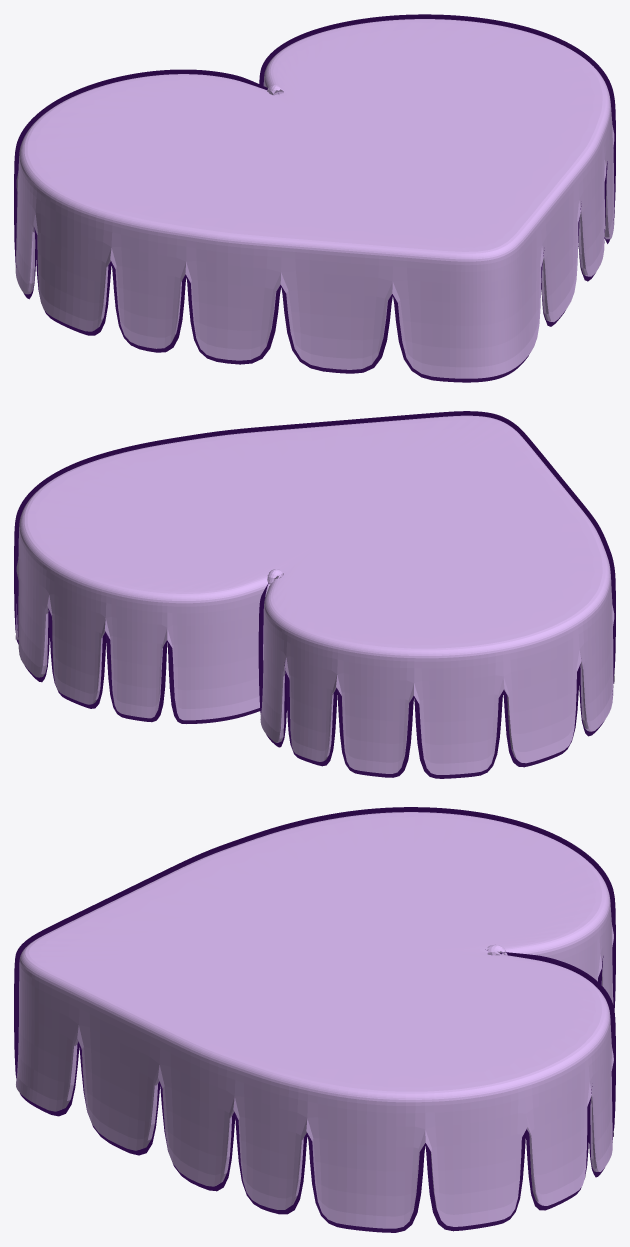
Rendered from coracao lilas.glb.
The picture shows the model from 3 angles, top to bottom: view 1: azimuth 30°, elevation 25°; view 2: azimuth 150°, elevation 25°; view 3: azimuth 270°, elevation 25°; orthographic projection. The views are drawn at different scales.
Visible parts, largest first — view 1: Circle.011; view 2: Circle.011; view 3: Circle.011.
Boxes of the visible parts, left/top/right/bottom form: Circle.011: left=14, top=14, right=615, bottom=382; Circle.011: left=14, top=411, right=615, bottom=778; Circle.011: left=14, top=807, right=615, bottom=1232.
Bounding box in the file's own units: 25.3 × 6.05 × 22.1.
